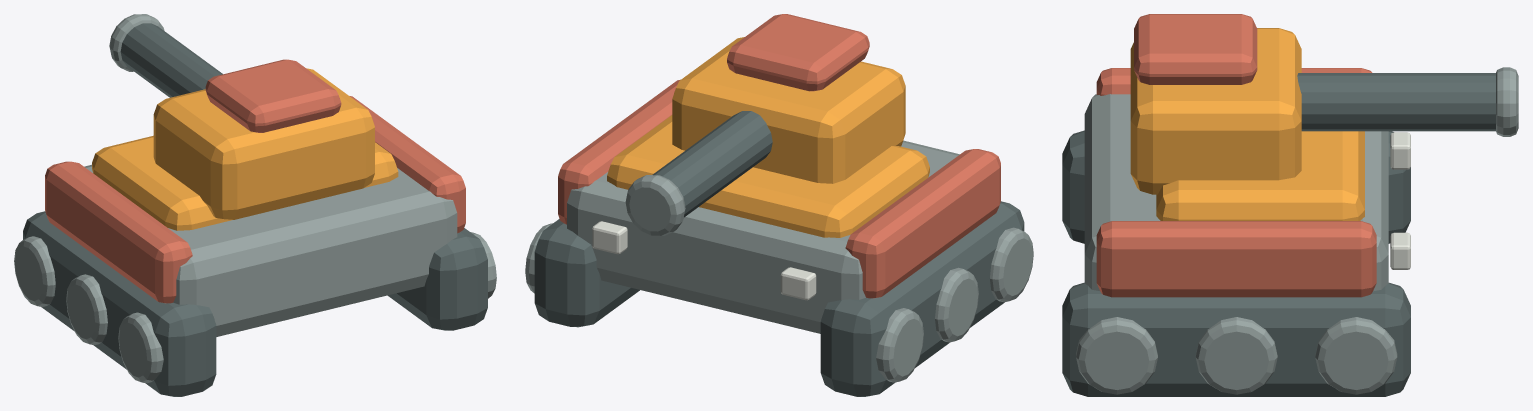
The model's file is boss.glb.
3 renders of one model, left to right at view 1: azimuth 30°, elevation 25°; view 2: azimuth 150°, elevation 25°; view 3: azimuth 270°, elevation 25°, orthographic. The views are drawn at different scales.
Visible parts, largest first — view 1: Armored hull.002, Turret.002, Track housing.004, Side armor, Command armor, Orange armor.002, Track housing.005, Gun barrel.002, Side armor.001, Road wheel.012, Road wheel.013, Road wheel.014 (+2 smaller); view 2: Armored hull.002, Turret.002, Orange armor.002, Track housing.004, Side armor, Command armor, Track housing.005, Gun barrel.002, Side armor.001, Muzzle rim.002, Road wheel.014, Road wheel.012 (+4 smaller); view 3: Side armor.001, Track housing.005, Turret.002, Orange armor.002, Gun barrel.002, Armored hull.002, Command armor, Road wheel.017, Road wheel.015, Road wheel.016, Track housing.004, Muzzle rim.002 (+3 smaller).
Boxes of the visible parts, <box> form: Armored hull.002: <box>84,164,457,336</box>; Turret.002: <box>153,68,374,219</box>; Track housing.004: <box>23,211,216,396</box>; Side armor: <box>45,161,192,303</box>; Command armor: <box>205,59,341,132</box>; Orange armor.002: <box>92,135,398,230</box>; Track housing.005: <box>387,228,487,330</box>; Gun barrel.002: <box>120,23,222,97</box>; Side armor.001: <box>350,96,465,233</box>; Road wheel.012: <box>118,312,163,383</box>; Road wheel.013: <box>66,274,107,345</box>; Road wheel.014: <box>14,236,55,306</box>; Armored hull.002: <box>567,140,959,333</box>; Turret.002: <box>672,37,905,183</box>; Orange armor.002: <box>607,115,929,237</box>; Track housing.004: <box>820,201,1024,396</box>; Side armor: <box>845,149,1000,298</box>; Command armor: <box>727,14,869,91</box>; Track housing.005: <box>534,219,639,327</box>; Gun barrel.002: <box>652,111,772,217</box>; Side armor.001: <box>558,79,680,224</box>; Muzzle rim.002: <box>625,175,685,235</box>; Road wheel.014: <box>876,308,923,382</box>; Road wheel.012: <box>990,227,1033,302</box>; Side armor.001: <box>1096,221,1376,297</box>; Track housing.005: <box>1062,282,1410,396</box>; Turret.002: <box>1130,28,1301,194</box>; Orange armor.002: <box>1156,131,1364,220</box>; Gun barrel.002: <box>1297,73,1495,131</box>; Armored hull.002: <box>1084,94,1388,291</box>; Command armor: <box>1134,14,1257,84</box>; Road wheel.017: <box>1315,317,1397,394</box>; Road wheel.015: <box>1076,317,1157,394</box>; Road wheel.016: <box>1195,317,1277,394</box>; Track housing.004: <box>1062,130,1410,243</box>; Muzzle rim.002: <box>1496,67,1518,136</box>.
Bounding box in the file's own units: 1.35 × 0.905 × 1.34.
